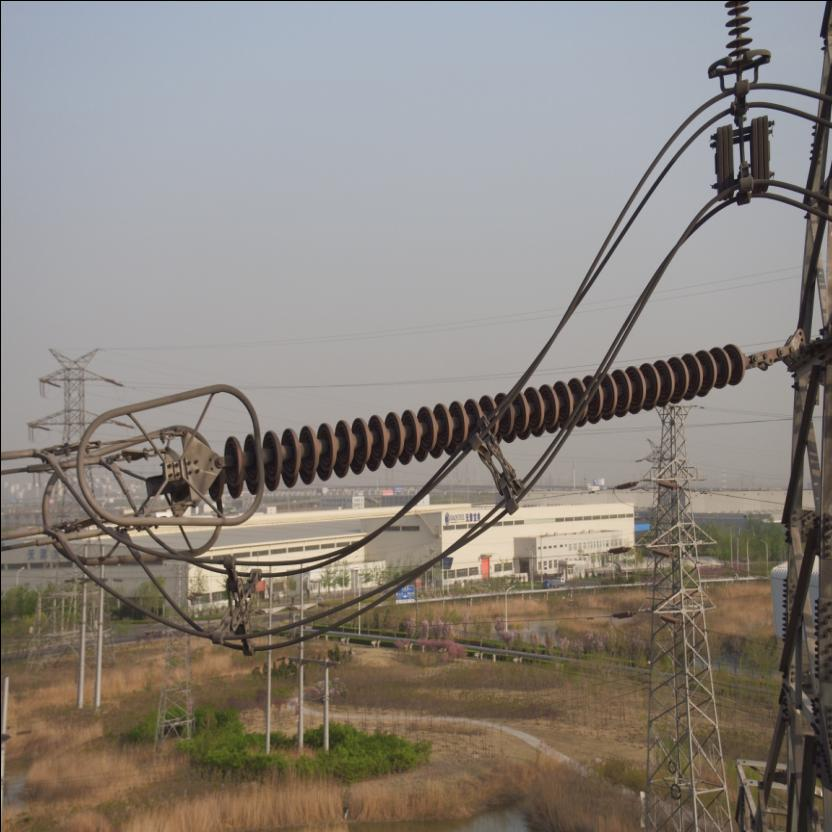insulator: (202, 339, 768, 497)
